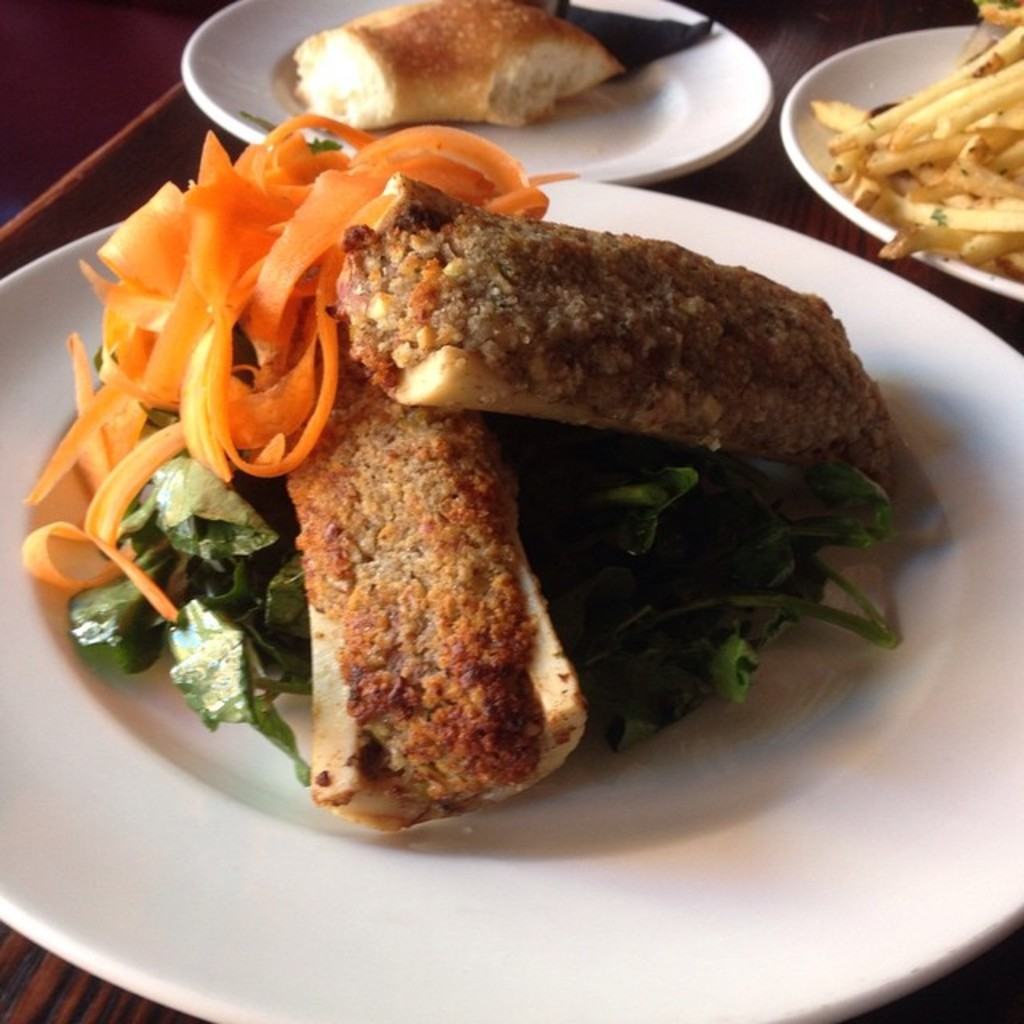French fries: (814, 41, 1020, 248)
